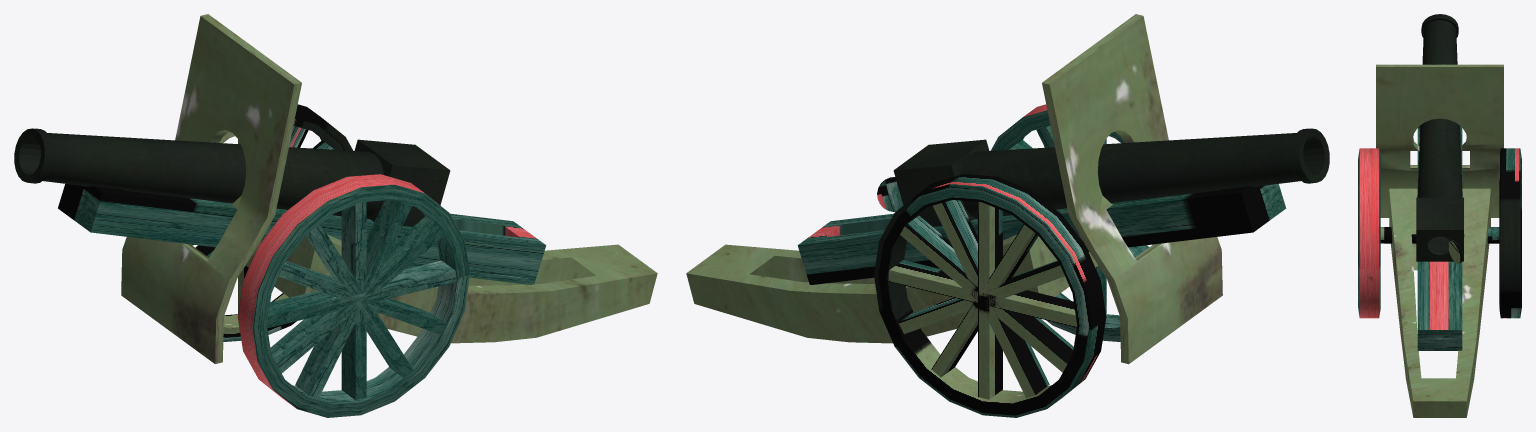
File: kanon.fbx
3 renders of one model, left to right at view 1: azimuth 30°, elevation 25°; view 2: azimuth 150°, elevation 25°; view 3: azimuth 270°, elevation 25°, orthographic. The views are drawn at different scales.
Visible parts, largest first — view 1: cannon:polySurface7; view 2: cannon:polySurface7; view 3: cannon:polySurface7.
Part boxes in pixels (x1=…): cannon:polySurface7: x1=14, y1=14, x2=657, y2=417; cannon:polySurface7: x1=686, y1=14, x2=1329, y2=417; cannon:polySurface7: x1=1358, y1=14, x2=1521, y2=417.
Size of the model in its own units: 12.99 by 6.76 by 4.4.
